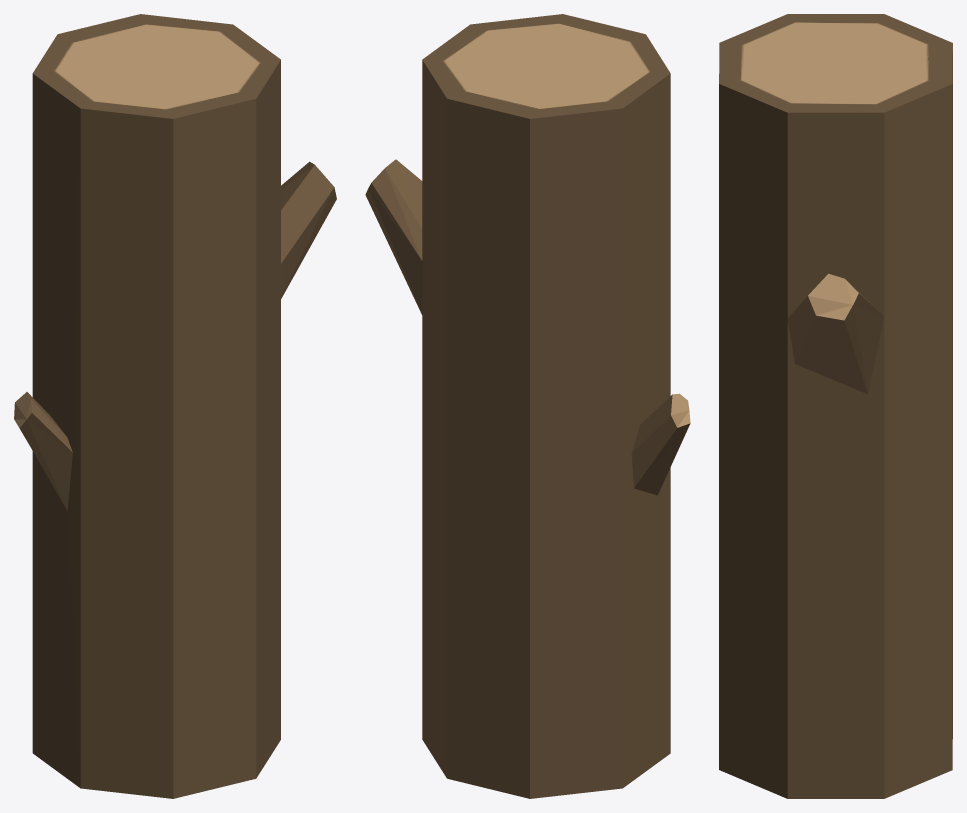
The model's file is log_04.FBX.
3 views of the same model, side by side, from view 1: azimuth 30°, elevation 25°; view 2: azimuth 150°, elevation 25°; view 3: azimuth 270°, elevation 25° (orthographic).
Parts seen in each view (by area): view 1: log_04; view 2: log_04; view 3: log_04.
Boxes of the visible parts, box(x1,y1,x2,y2) form: log_04: box(14, 14, 336, 798); log_04: box(365, 14, 690, 798); log_04: box(719, 14, 952, 798).
Size of the model in its own units: 17.33 by 35.45 by 10.94.
1 material, 1 textured.
